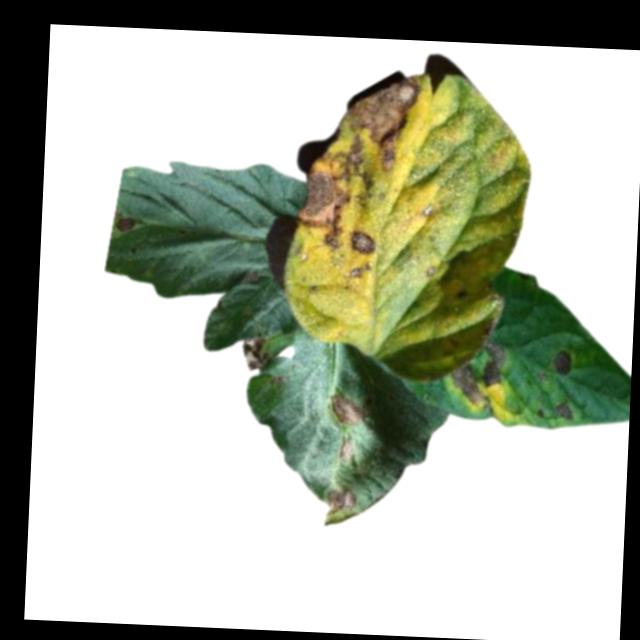Early_blight: (295, 132, 376, 252), (345, 74, 420, 174), (448, 338, 508, 410), (241, 335, 278, 372), (330, 393, 364, 427), (325, 490, 356, 516), (552, 349, 577, 381), (349, 231, 377, 254), (554, 400, 578, 420), (114, 215, 137, 234)
